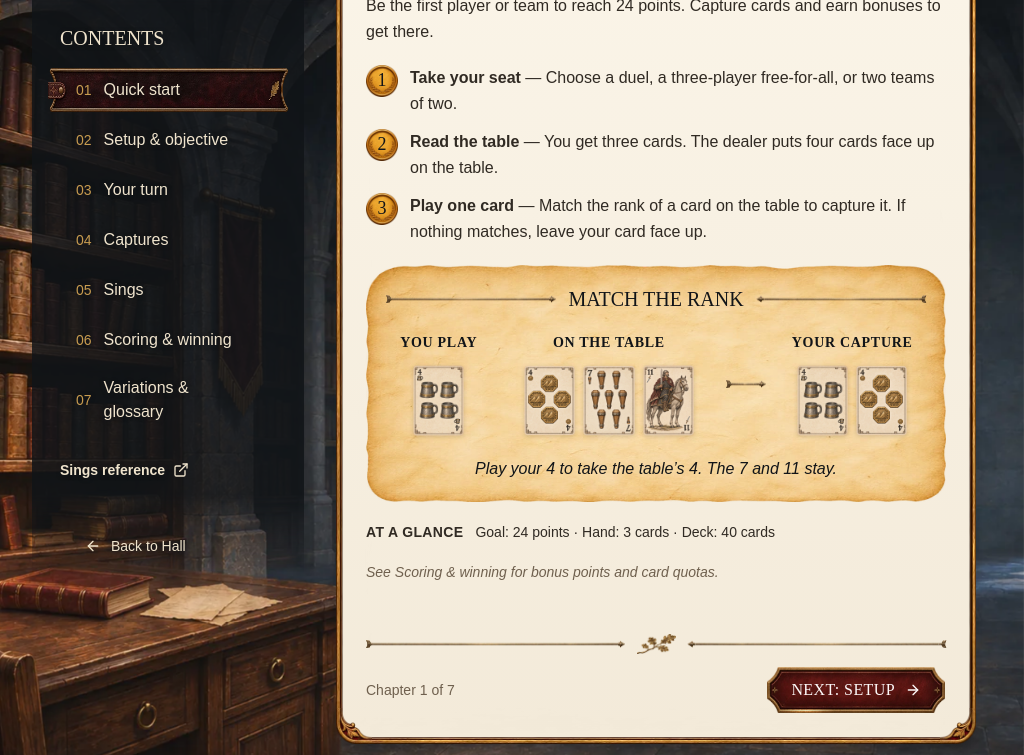
Scenario: chapter links and Previous/Next navigate, focus the heading and retain source rules
(page scrolled)
Click the link "Next: Setup" at (856, 690), box [791, 681, 921, 698]
(page scrolled)
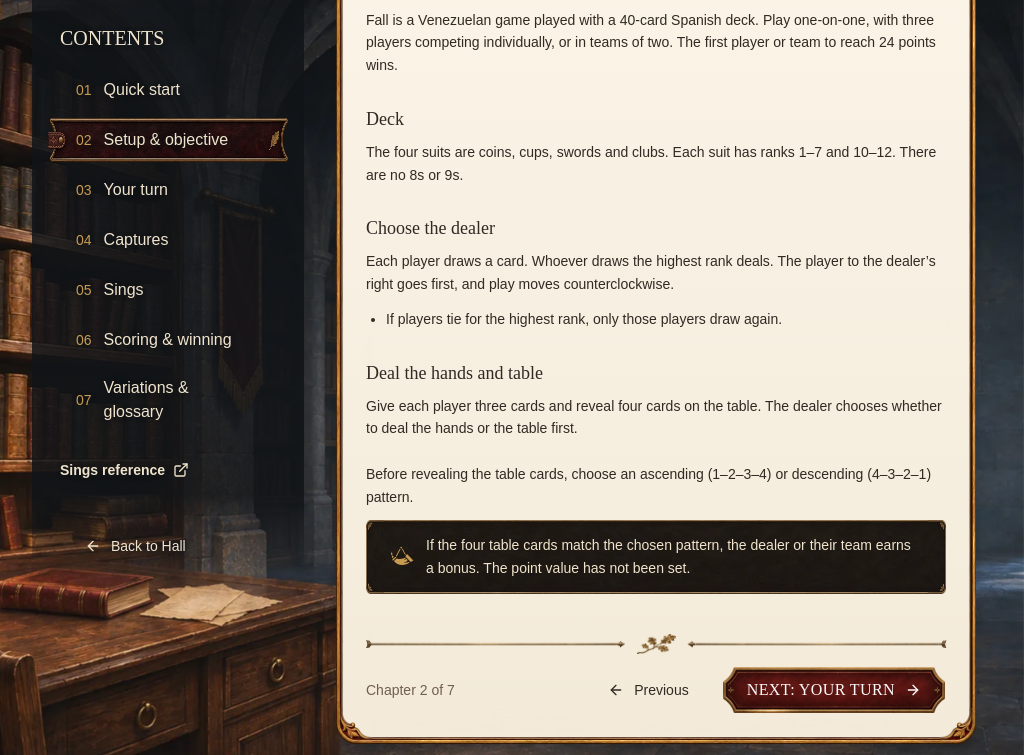
Now the text "The four suits are coins, cups, swords and clubs. Each suit has ranks 1–7 and 10–12. There are no 8s or 9s." is shown, box [366, 144, 936, 183]
Now the text "Each player draws a card. Whoever draws the highest rank deals. The player to the dealer’s right goes first, and play mo" is shown, box [366, 253, 936, 292]
Click the link "Previous" at (648, 690), box [608, 682, 689, 698]
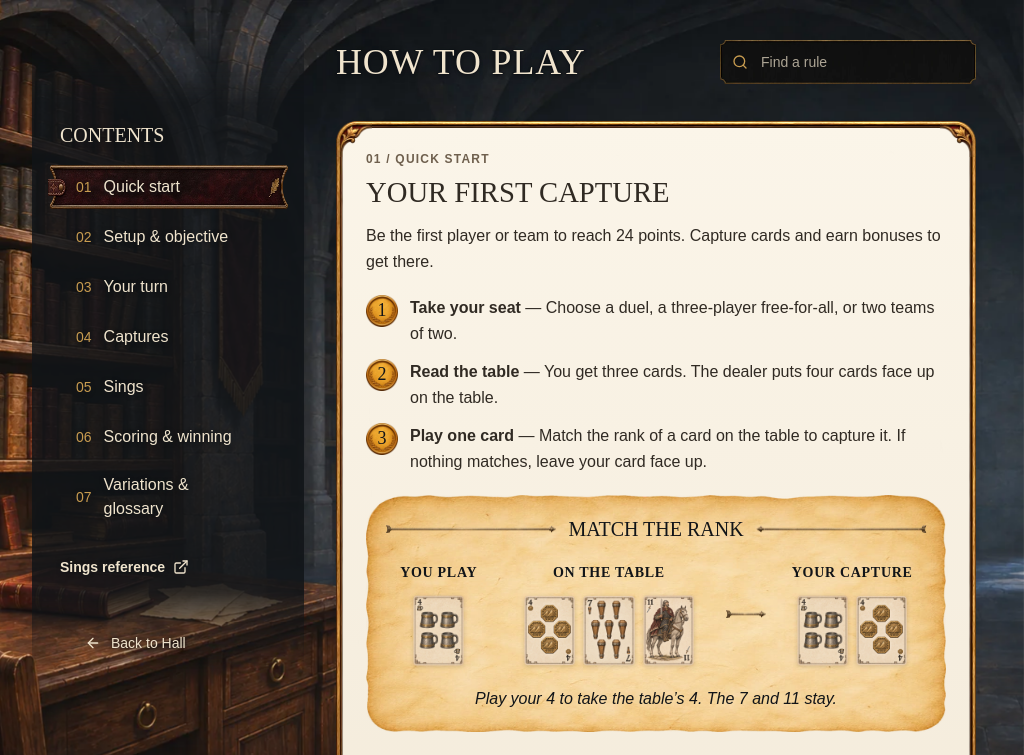
Now the heading "Your first capture" is shown, box [366, 176, 670, 208]
